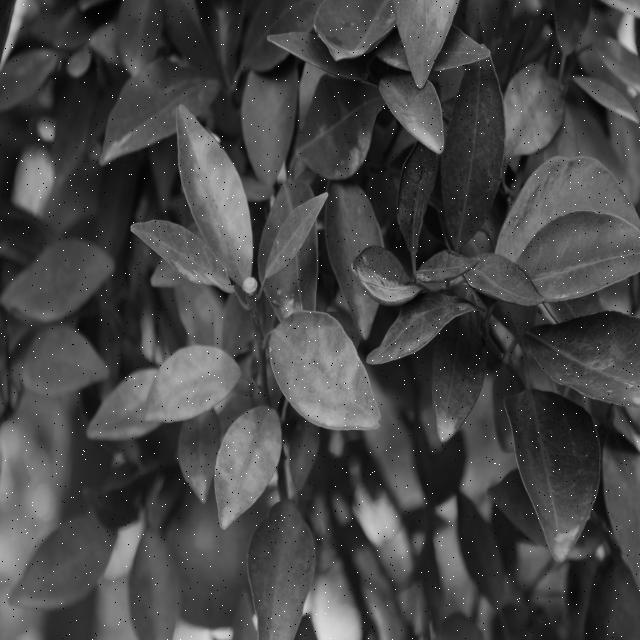blackspot: (193, 134, 240, 259), (356, 237, 417, 315), (400, 133, 438, 247), (416, 245, 482, 288)
